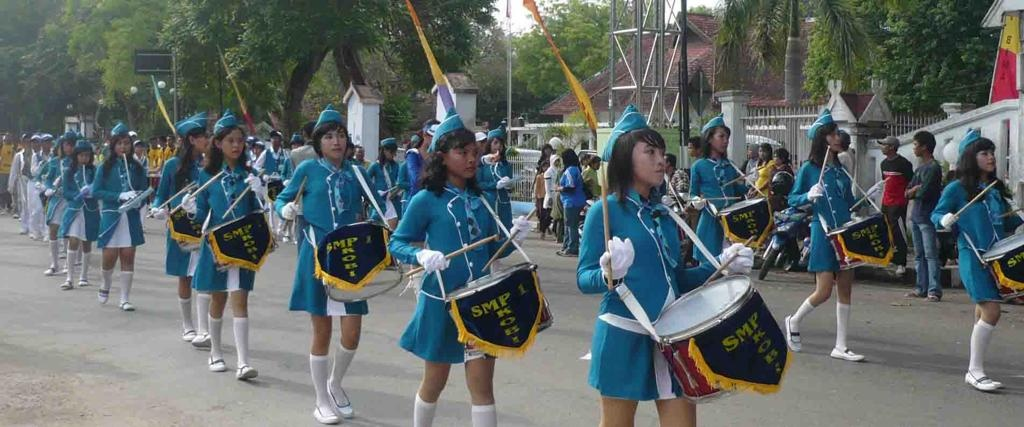human_face: (634, 142, 666, 184), (446, 140, 476, 178), (319, 124, 347, 157), (221, 131, 243, 159), (976, 149, 996, 171), (710, 128, 728, 152), (824, 126, 840, 150), (114, 137, 130, 157), (194, 130, 208, 151), (490, 136, 504, 154), (912, 139, 924, 159), (426, 130, 440, 146), (76, 150, 90, 165), (62, 140, 74, 154), (880, 142, 890, 156), (687, 141, 697, 155), (386, 146, 396, 160), (270, 134, 280, 148), (759, 146, 769, 158), (291, 142, 301, 152), (590, 159, 600, 169), (41, 139, 51, 149), (476, 139, 486, 149), (747, 144, 755, 156), (356, 148, 364, 160), (772, 152, 780, 163), (30, 138, 38, 148), (22, 138, 30, 148), (662, 154, 668, 166), (552, 158, 560, 166), (6, 132, 14, 140), (252, 144, 258, 154), (544, 146, 550, 154), (540, 164, 548, 170), (134, 144, 140, 152)
